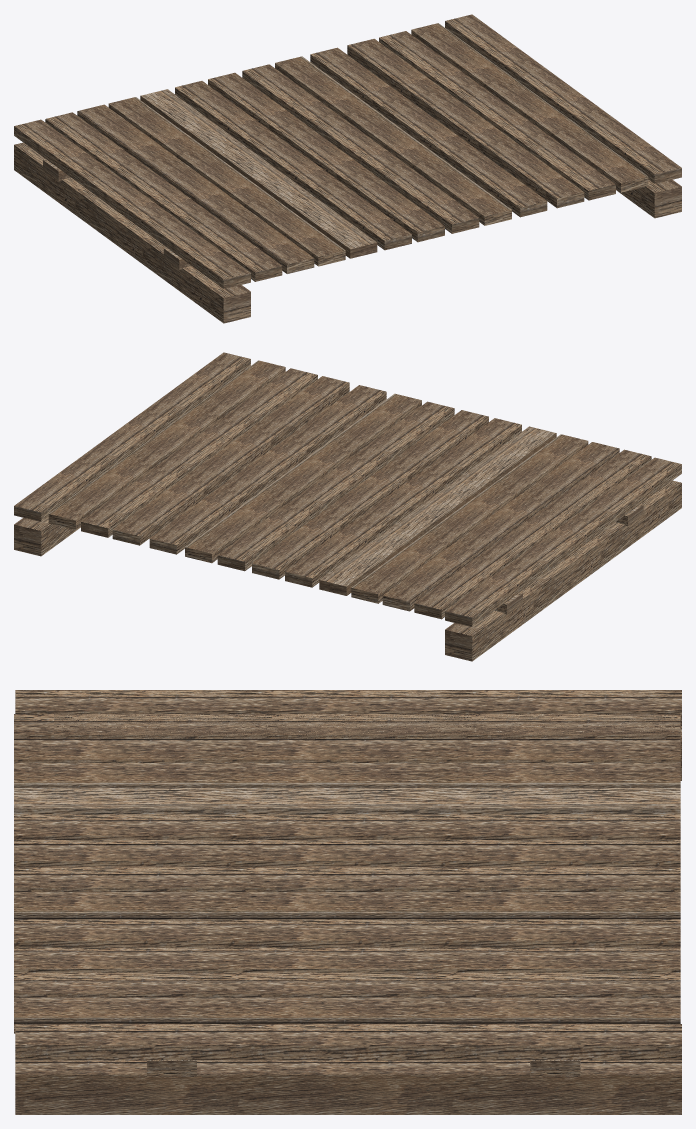
The model's file is muellePre.fbx.
3 renders of one model, top to bottom at view 1: azimuth 30°, elevation 25°; view 2: azimuth 150°, elevation 25°; view 3: azimuth 270°, elevation 25°, orthographic. The views are drawn at different scales.
Visible parts, largest first — view 1: platform; view 2: platform; view 3: platform.
Boxes of the visible parts, x1,y1,x2,y2 form: platform: (14,14,681,323); platform: (14,352,681,661); platform: (14,690,681,1114).
Size of the model in its own units: 508 by 46.2 by 401.
Materials: 1 (1 with a texture image).
